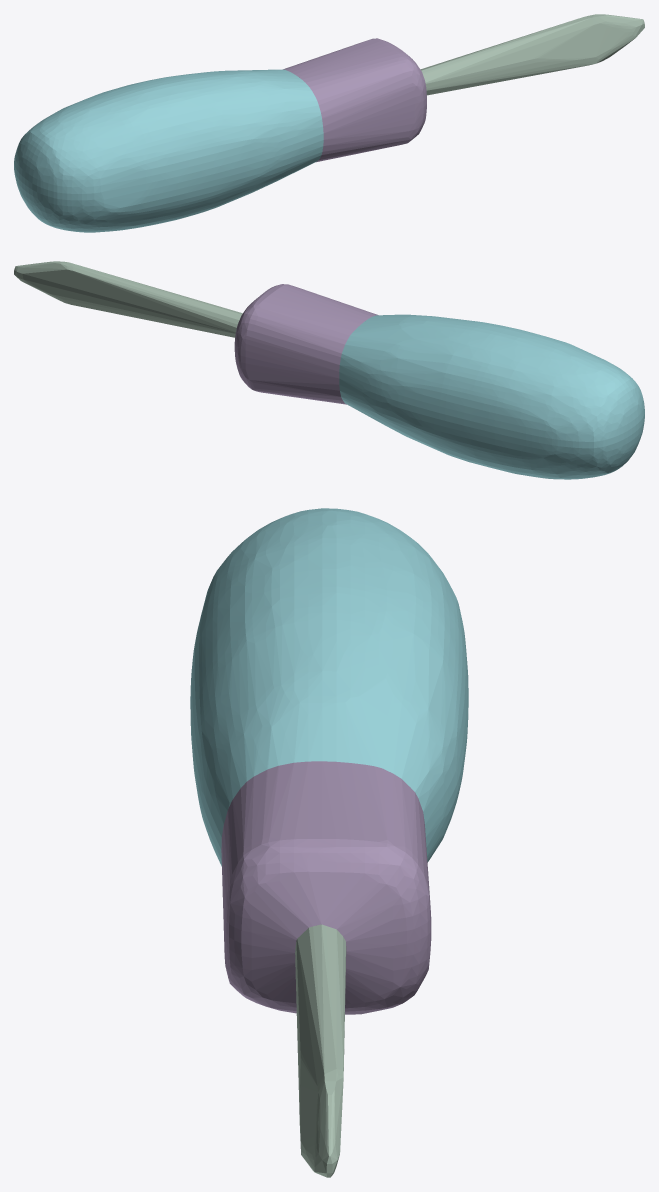
File: short_screwdriver-collision.glb
3 renders of one model, top to bottom at view 1: azimuth 30°, elevation 25°; view 2: azimuth 150°, elevation 25°; view 3: azimuth 270°, elevation 25°, orthographic. The views are drawn at different scales.
Parts seen in each view (by area): view 1: short_screwdriver_collision2_0, short_screwdriver_collision1_0, short_screwdriver_collision0_0; view 2: short_screwdriver_collision2_0, short_screwdriver_collision1_0, short_screwdriver_collision0_0; view 3: short_screwdriver_collision2_0, short_screwdriver_collision1_0, short_screwdriver_collision0_0.
Boxes of the visible parts, x1=… form: short_screwdriver_collision2_0: x1=14, y1=69, x2=323, y2=232; short_screwdriver_collision1_0: x1=283, y1=38, x2=426, y2=162; short_screwdriver_collision0_0: x1=420, y1=14, x2=644, y2=95; short_screwdriver_collision2_0: x1=339, y1=314, x2=644, y2=479; short_screwdriver_collision1_0: x1=234, y1=284, x2=378, y2=404; short_screwdriver_collision0_0: x1=14, y1=261, x2=242, y2=337; short_screwdriver_collision2_0: x1=190, y1=508, x2=468, y2=866; short_screwdriver_collision1_0: x1=221, y1=761, x2=431, y2=1014; short_screwdriver_collision0_0: x1=295, y1=924, x2=346, y2=1177.
Bounding box in the file's own units: 0.1909 × 0.0372 × 0.0372.
